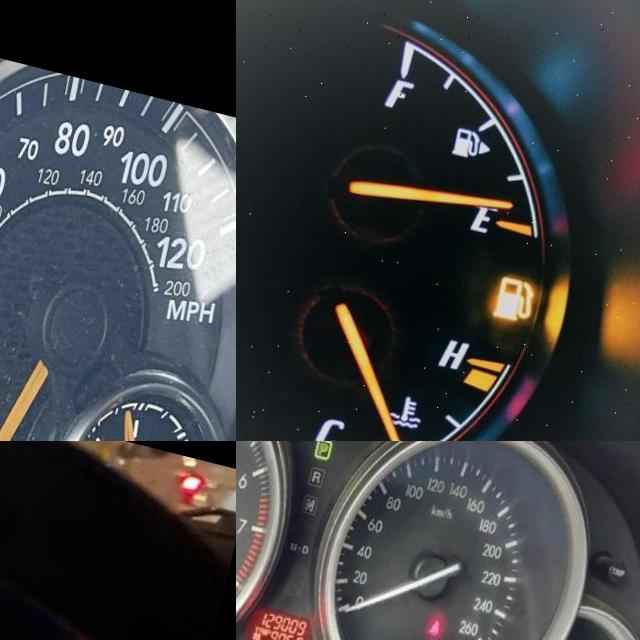Seat Belt: (443, 596, 457, 617)
